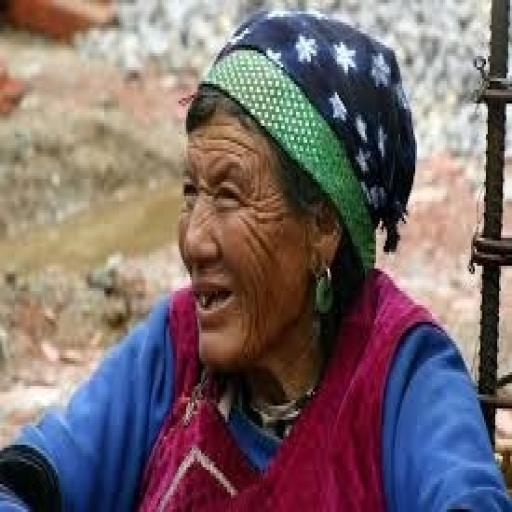laughing: (0, 6, 510, 509)
